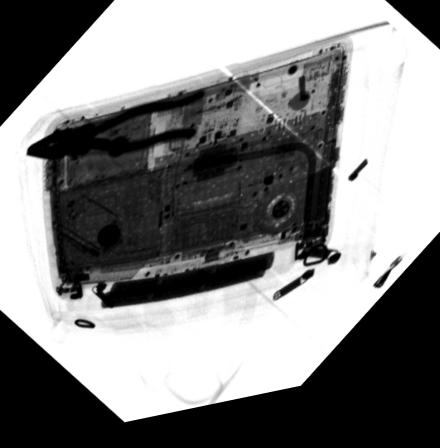Pliers: (25, 95, 208, 163)
